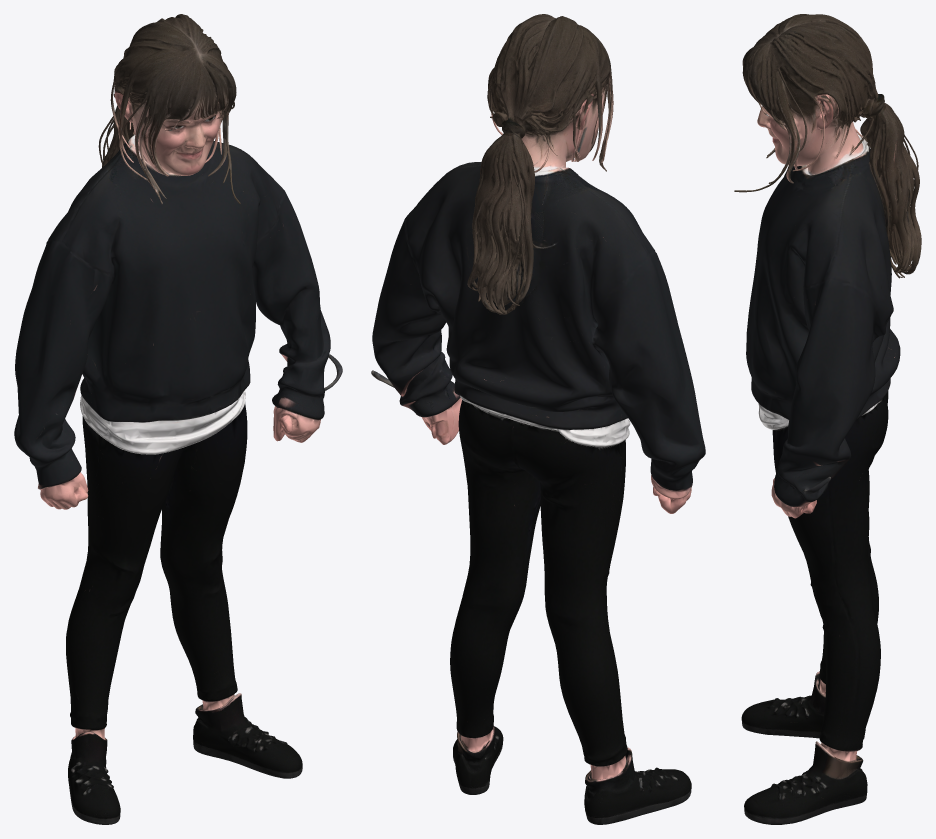
File: Willow1.glb
3 views of the same model, side by side, from view 1: azimuth 30°, elevation 25°; view 2: azimuth 150°, elevation 25°; view 3: azimuth 270°, elevation 25° (orthographic).
Size of the model in its own units: 0.5819 by 1.3 by 0.292.
Materials: 1 (1 with a texture image).
